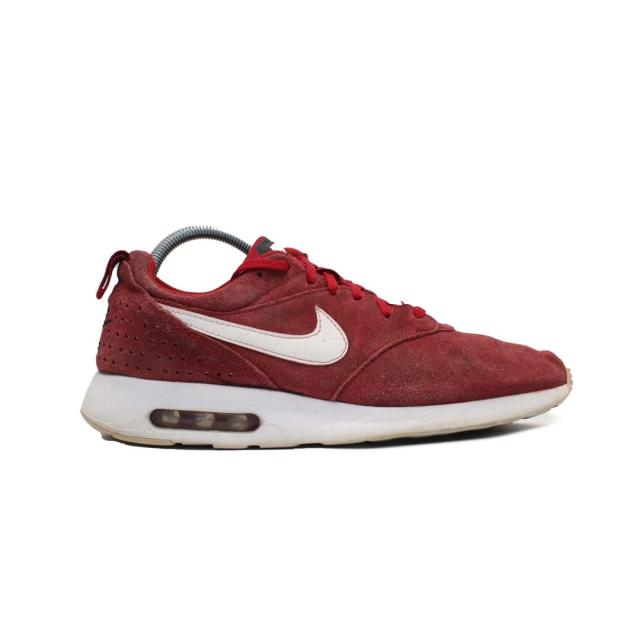heel: (84, 233, 126, 373)
midsole: (79, 372, 578, 452)
uppersole: (130, 230, 572, 394)
